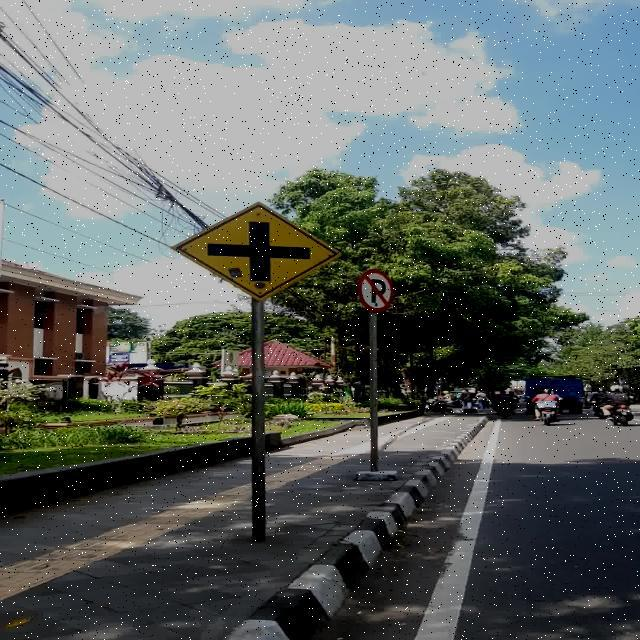Persimpangan 4: (171, 202, 341, 302)
